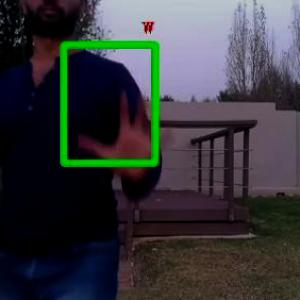follow_hand: (77, 89, 169, 188)
